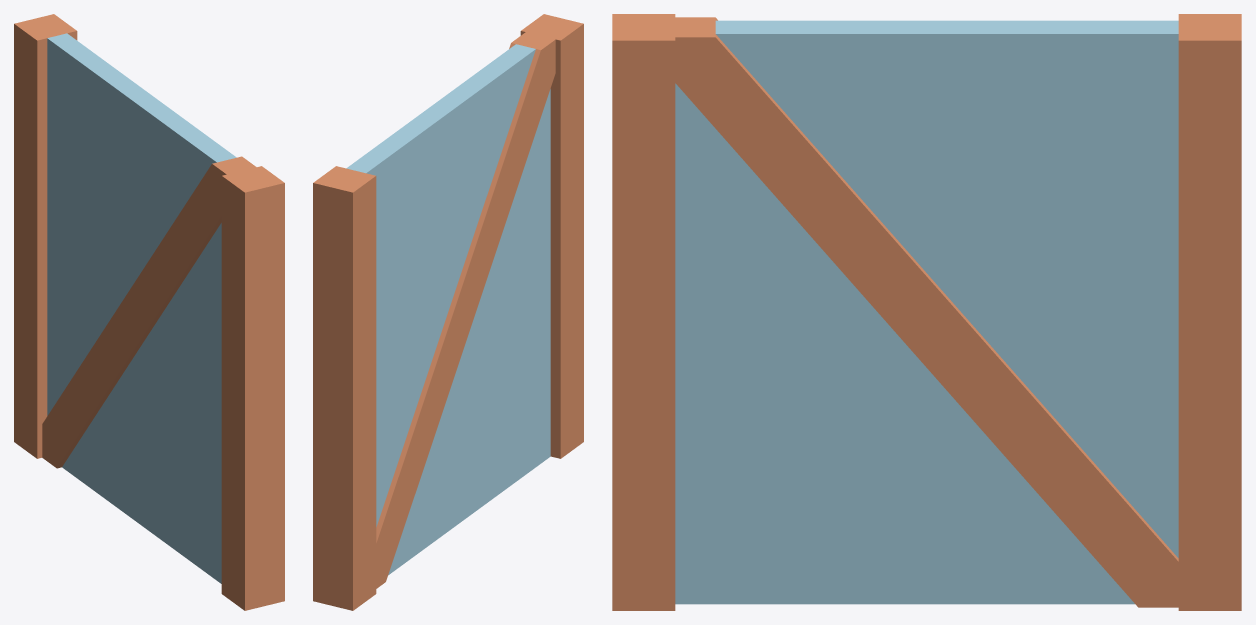
The model's file is wallDetailDiagonal.fbx.
The picture shows the model from 3 angles, left to right: view 1: azimuth 30°, elevation 25°; view 2: azimuth 150°, elevation 25°; view 3: azimuth 270°, elevation 25°; orthographic projection. The views are drawn at different scales.
Parts seen in each view (by area): view 1: wallDetailDiagonal; view 2: wallDetailDiagonal; view 3: wallDetailDiagonal.
Part boxes in pixels (bbox=[...]): wallDetailDiagonal: bbox=[14, 14, 284, 610]; wallDetailDiagonal: bbox=[313, 14, 583, 610]; wallDetailDiagonal: bbox=[612, 14, 1241, 610].
Bounding box in the file's own units: 1 × 10 × 10.
